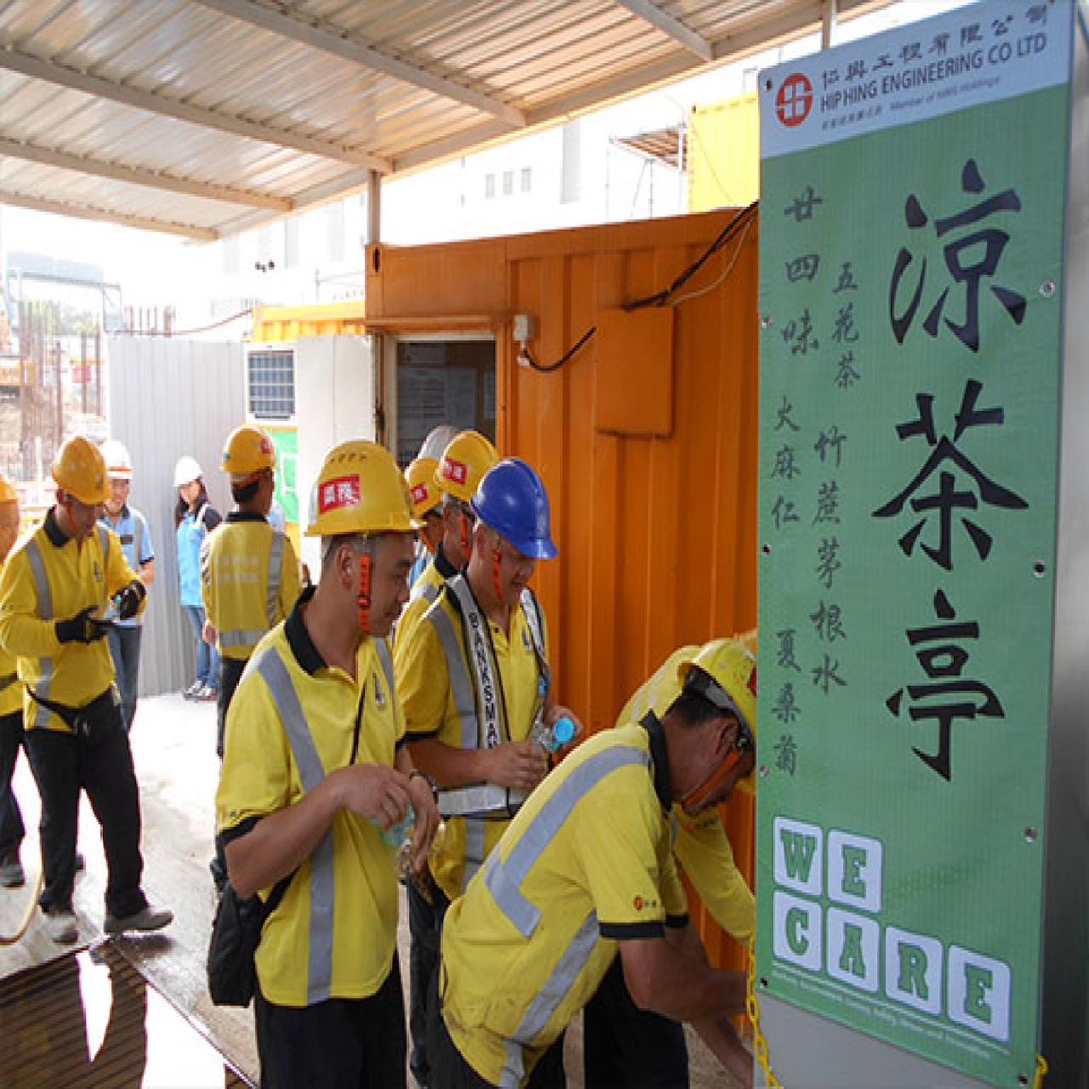NO_Safety_Vest: (442, 710, 682, 1089), (221, 614, 412, 1003), (414, 574, 559, 898), (9, 520, 128, 720), (195, 511, 304, 674), (97, 504, 150, 624), (171, 501, 221, 602)
Person: (210, 436, 447, 1089), (432, 624, 764, 1089), (409, 452, 572, 1089), (5, 434, 176, 949), (189, 403, 321, 767), (85, 437, 155, 742), (399, 430, 501, 638), (166, 448, 226, 709), (395, 447, 449, 594)
